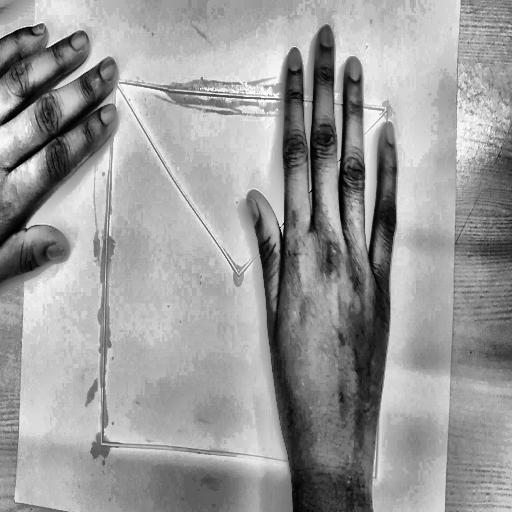bottom_left: (12, 493, 20, 507)
envelop: (93, 69, 400, 488)
